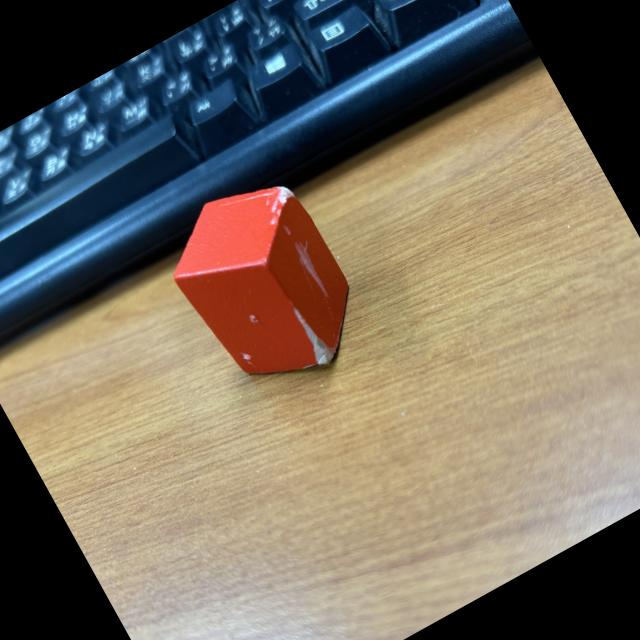broken: (148, 160, 382, 413)
